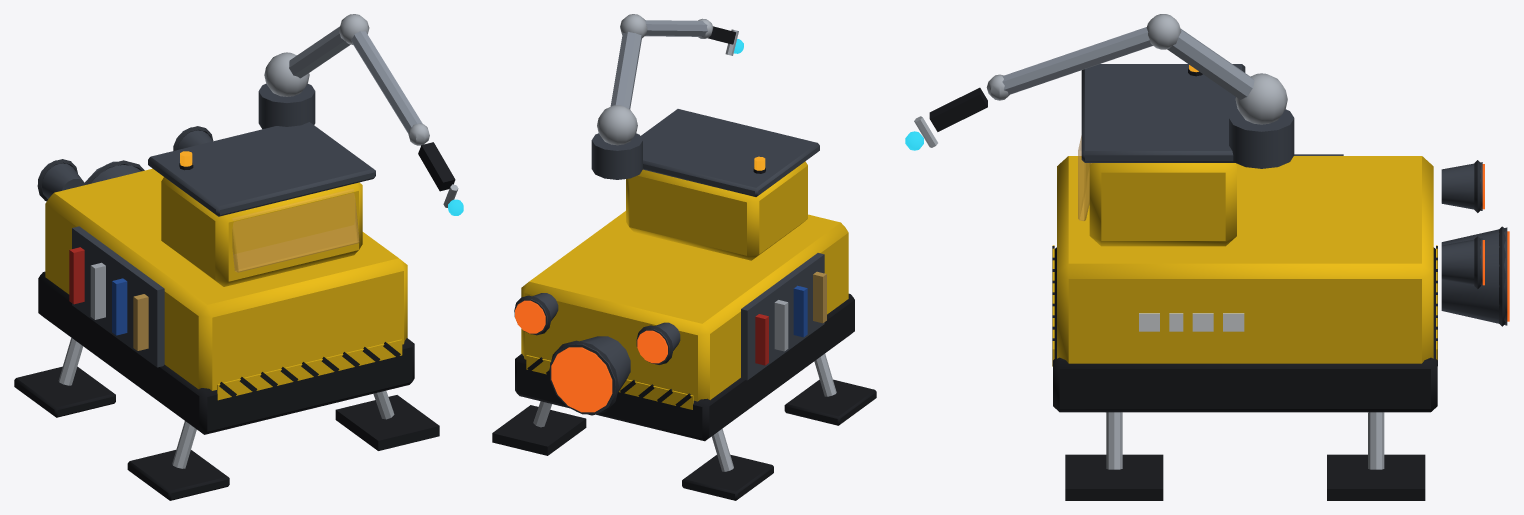
The model's file is craft_repair_pod.glb.
3 renders of one model, left to right at view 1: azimuth 30°, elevation 25°; view 2: azimuth 150°, elevation 25°; view 3: azimuth 270°, elevation 25°, orthographic. The views are drawn at different scales.
Parts seen in each view (by area): view 1: craft_repair_pod; view 2: craft_repair_pod; view 3: craft_repair_pod.
Boxes of the visible parts, left/top/right/bottom form: craft_repair_pod: left=14, top=14, right=463, bottom=500; craft_repair_pod: left=492, top=14, right=876, bottom=500; craft_repair_pod: left=905, top=14, right=1509, bottom=500.
Size of the model in its own units: 2.2 by 3.11 by 3.69.
